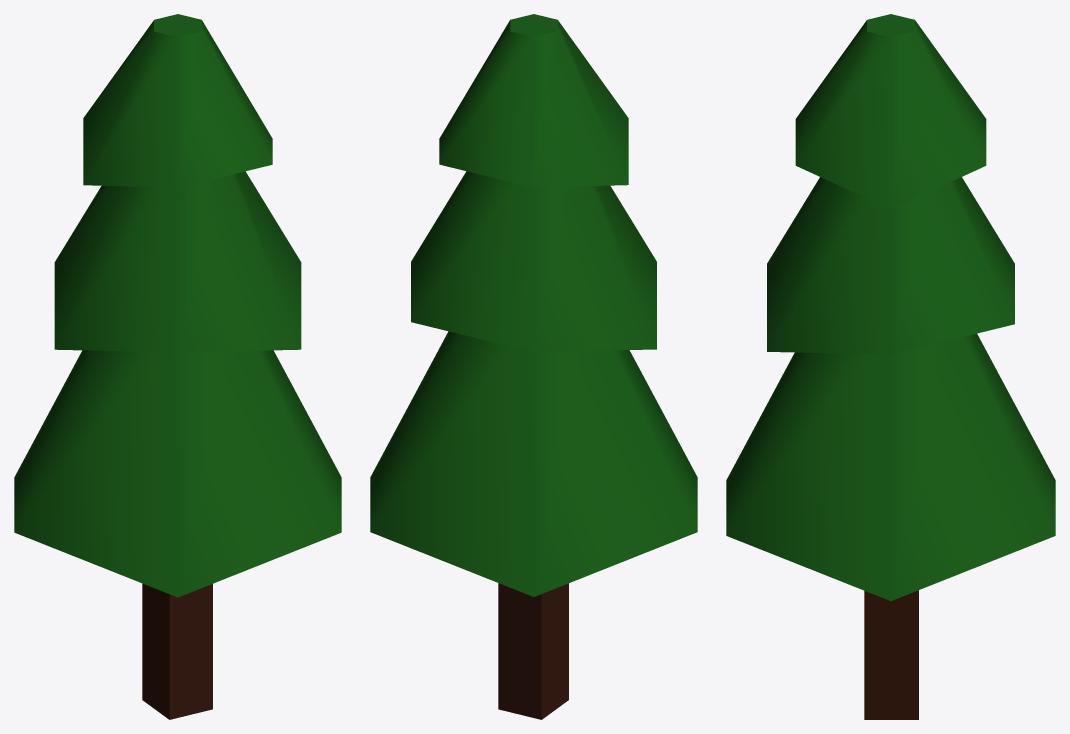
Rendered from Tree_01.FBX.
3 views of the same model, side by side, from view 1: azimuth 30°, elevation 25°; view 2: azimuth 150°, elevation 25°; view 3: azimuth 270°, elevation 25° (orthographic).
Parts seen in each view (by area): view 1: Tree_01; view 2: Tree_01; view 3: Tree_01.
Boxes of the visible parts, box(x1,y1,x2,y2) form: Tree_01: box(14, 14, 341, 719); Tree_01: box(370, 14, 697, 719); Tree_01: box(726, 14, 1055, 719).
Bounding box in the file's own units: 4.85 × 9.61 × 4.2.
